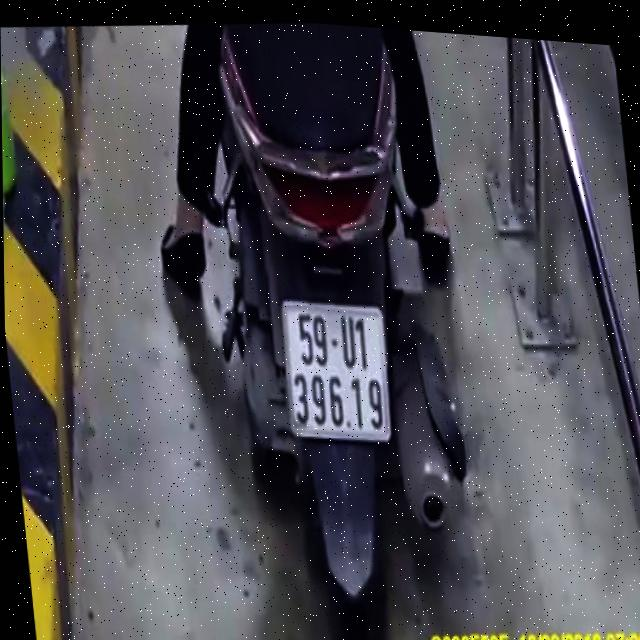motorcycle: (198, 15, 498, 640)
plate: (274, 283, 400, 459)
